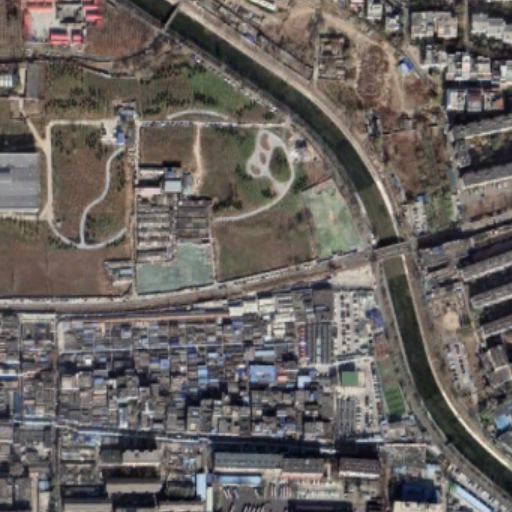cw: (296, 175, 367, 260), (132, 240, 216, 297)
